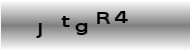4: (114, 9, 128, 23)
J: (35, 21, 42, 38)
R: (96, 10, 110, 25)
g: (75, 22, 88, 35)
t: (60, 14, 70, 27)
